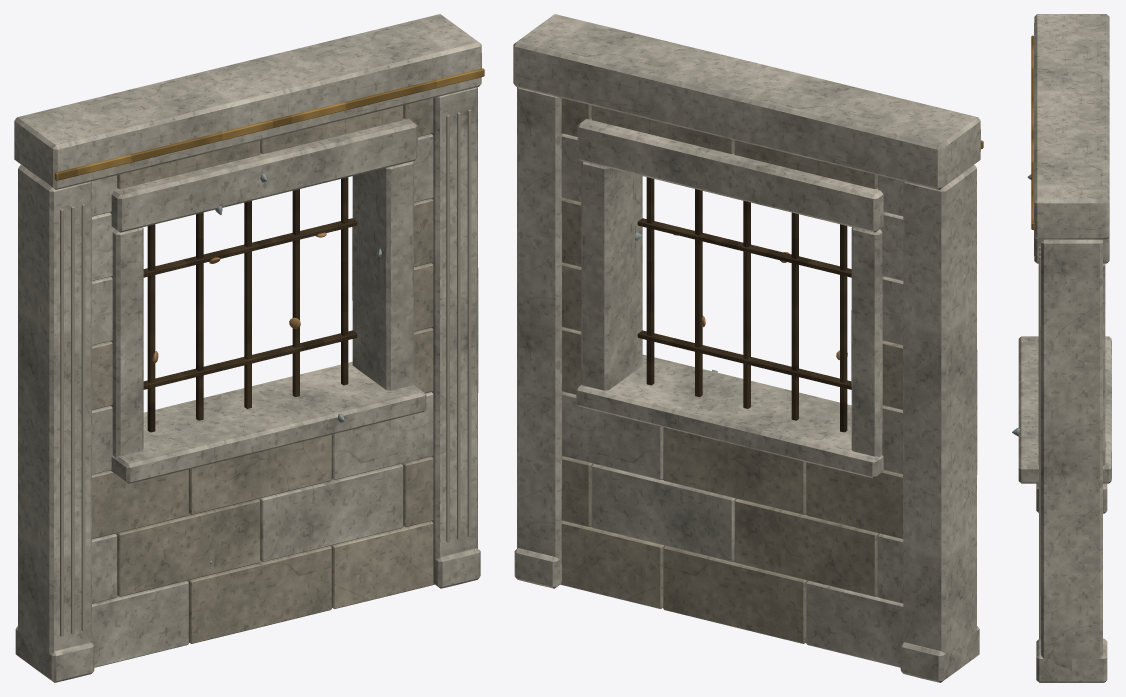
3 renders of one model, left to right at view 1: azimuth 30°, elevation 25°; view 2: azimuth 150°, elevation 25°; view 3: azimuth 270°, elevation 25°, orthographic. The views are drawn at different scales.
Visible parts, largest first — view 1: carved-limestone-mouldings, honed-limestone, dark-patinated-bronze-fittings, mortar-joint-recess, aged-bronze; view 2: carved-limestone-mouldings, honed-limestone, dark-patinated-bronze-fittings; view 3: carved-limestone-mouldings, mortar-joint-recess, aged-bronze.
Part boxes in pixels (left/top/right/bottom): carved-limestone-mouldings: left=14, top=14, right=481, bottom=682; honed-limestone: left=92, top=98, right=434, bottom=643; dark-patinated-bronze-fittings: left=143, top=177, right=357, bottom=432; mortar-joint-recess: left=60, top=109, right=471, bottom=642; aged-bronze: left=55, top=68, right=484, bottom=180; carved-limestone-mouldings: left=513, top=14, right=980, bottom=682; honed-limestone: left=560, top=98, right=903, bottom=643; dark-patinated-bronze-fittings: left=637, top=177, right=851, bottom=432; carved-limestone-mouldings: left=1018, top=14, right=1111, bottom=682; mortar-joint-recess: left=1039, top=246, right=1040, bottom=639; aged-bronze: left=1031, top=35, right=1034, bottom=229.
Size of the model in its own units: 2 by 2.4 by 0.449.
Materials: 7 (4 with a texture image).
